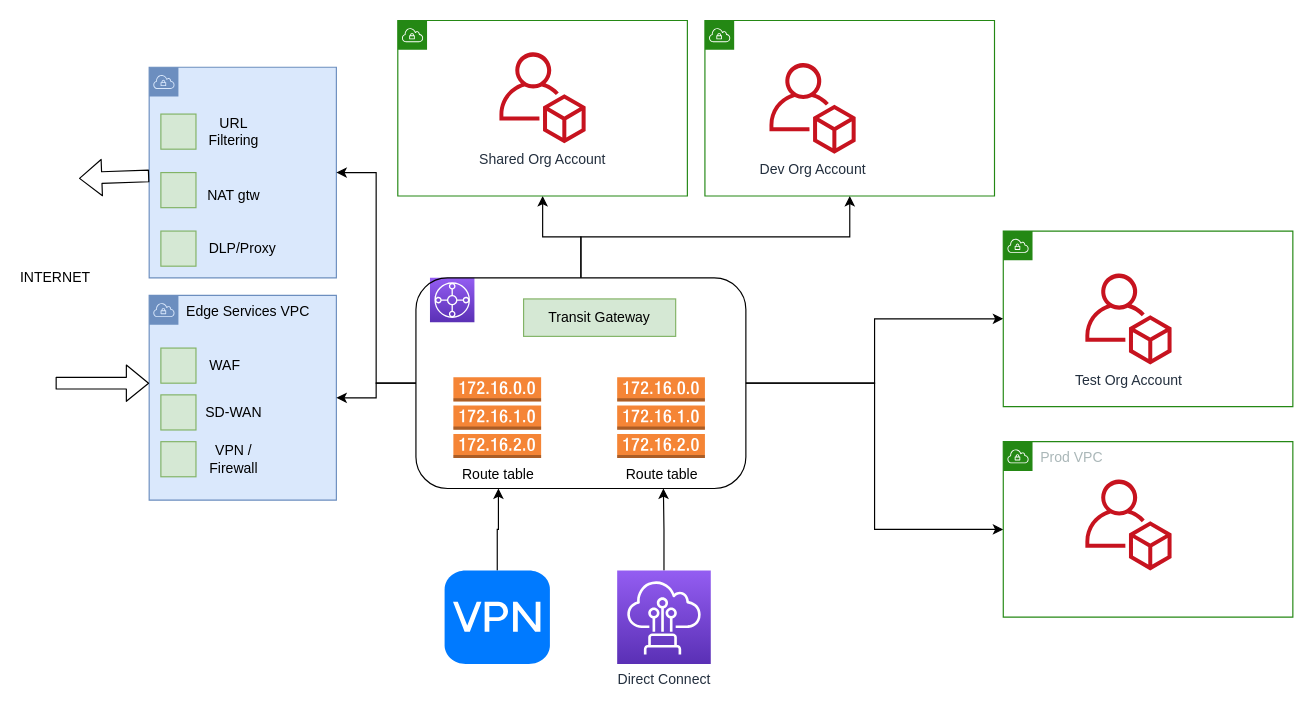
This 1313x709 diagram has some shape labels left out. The shapes that lost their labels are listed below. From the top down, each one's box as (x1, y1, x2, y2) in pixels, then its label:
(397, 19, 687, 196): Shared VPC
(704, 19, 994, 196): Dev VPC - 994522920780
(148, 66, 336, 278): Denali Outbound VPC
(1002, 230, 1293, 407): Test VPC
(1085, 479, 1171, 570): Prod Org Account
